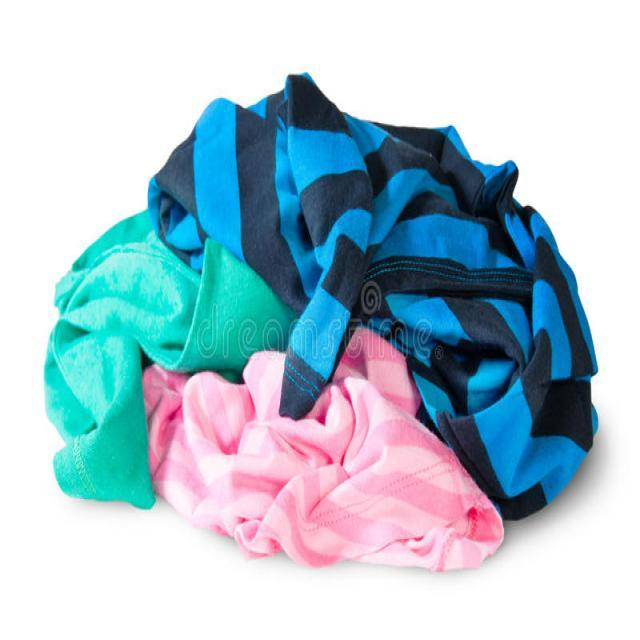clothes: (54, 155, 572, 571)
